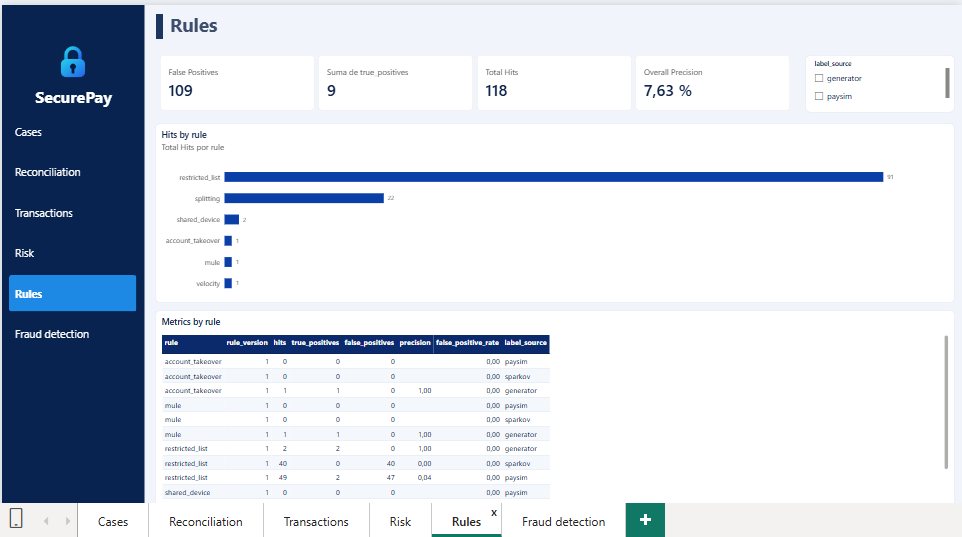

The page's visual inventory and layout, read from the dashboard file:
{"tool":"powerbi","page":{"name":"Rules","canvas":[1920,1080],"ordinal":4},"visuals":[{"type":"cardVisual","fields":{"Data":["q2_rules.False Positives"]},"box":[382,104,225,110],"z":0},{"type":"cardVisual","fields":{"Data":["q2_rules.Overall Precision"]},"box":[1350,104,225,110],"z":1000},{"type":"cardVisual","fields":{"Data":["q2_rules.Total Hits"]},"box":[1027,104,225,110],"z":2000},{"type":"cardVisual","fields":{"Data":["q2_rules.True Positives"]},"box":[705,104,225,110],"z":3000},{"type":"slicer","fields":{"Values":["q2_rules.label_source"]},"box":[1610,132,283,84],"z":4000},{"type":"clusteredBarChart","fields":{"Category":["q2_rules.rule"],"Y":["q2_rules.Total Hits"]},"box":[322,282,1568,345],"z":5000},{"type":"tableEx","fields":{"Values":["q2_rules.rule","q2_rules.rule_version","q2_rules.hits","q2_rules.true_positives","q2_rules.false_positives","q2_rules.precision","q2_rules.false_positive_rate","q2_rules.label_source"]},"box":[322,700,1026,350],"z":6000},{"type":"pageNavigator","box":[15,190,255,480],"z":6001}]}

Visuals, with their boxes on the page's 1920x1080 design canvas (x1, y1, x2, y2). These are canvas units, not pixel positions in the 962x537 screenshot, which may show the page scaled, cropped or inside an application window:
cardVisual - q2_rules.False Positives: bbox=(382, 104, 607, 214)
cardVisual - q2_rules.Overall Precision: bbox=(1350, 104, 1575, 214)
cardVisual - q2_rules.Total Hits: bbox=(1027, 104, 1252, 214)
cardVisual - q2_rules.True Positives: bbox=(705, 104, 930, 214)
slicer - q2_rules.label_source: bbox=(1610, 132, 1893, 216)
clusteredBarChart - q2_rules.rule x q2_rules.Total Hits: bbox=(322, 282, 1890, 627)
tableEx - q2_rules.rule x q2_rules.rule_version: bbox=(322, 700, 1348, 1050)
pageNavigator: bbox=(15, 190, 270, 670)
